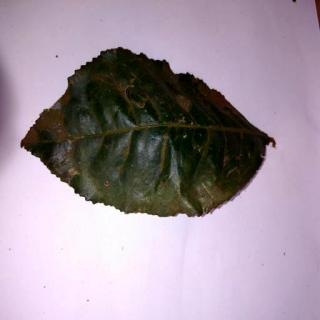Anthracnose: (23, 50, 273, 219)
